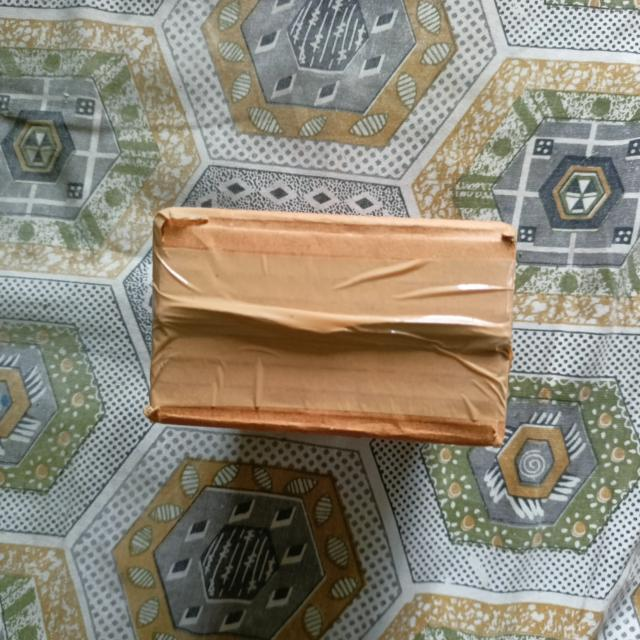box: (154, 220, 516, 445)
